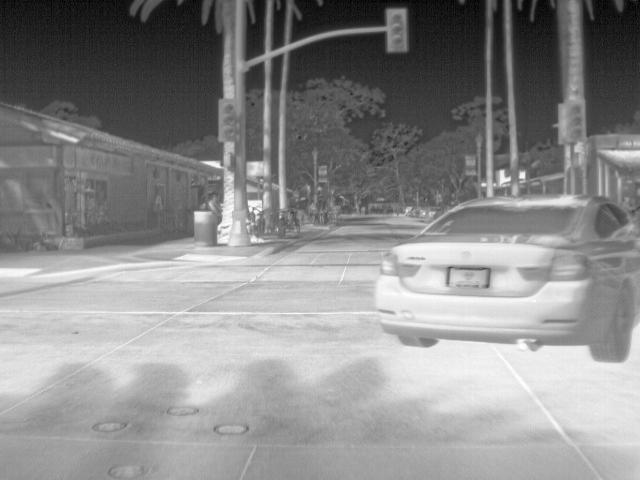car: (372, 194, 640, 364), (426, 204, 442, 220), (418, 206, 432, 222), (409, 206, 423, 220), (401, 206, 415, 218)
person: (207, 192, 221, 211)
